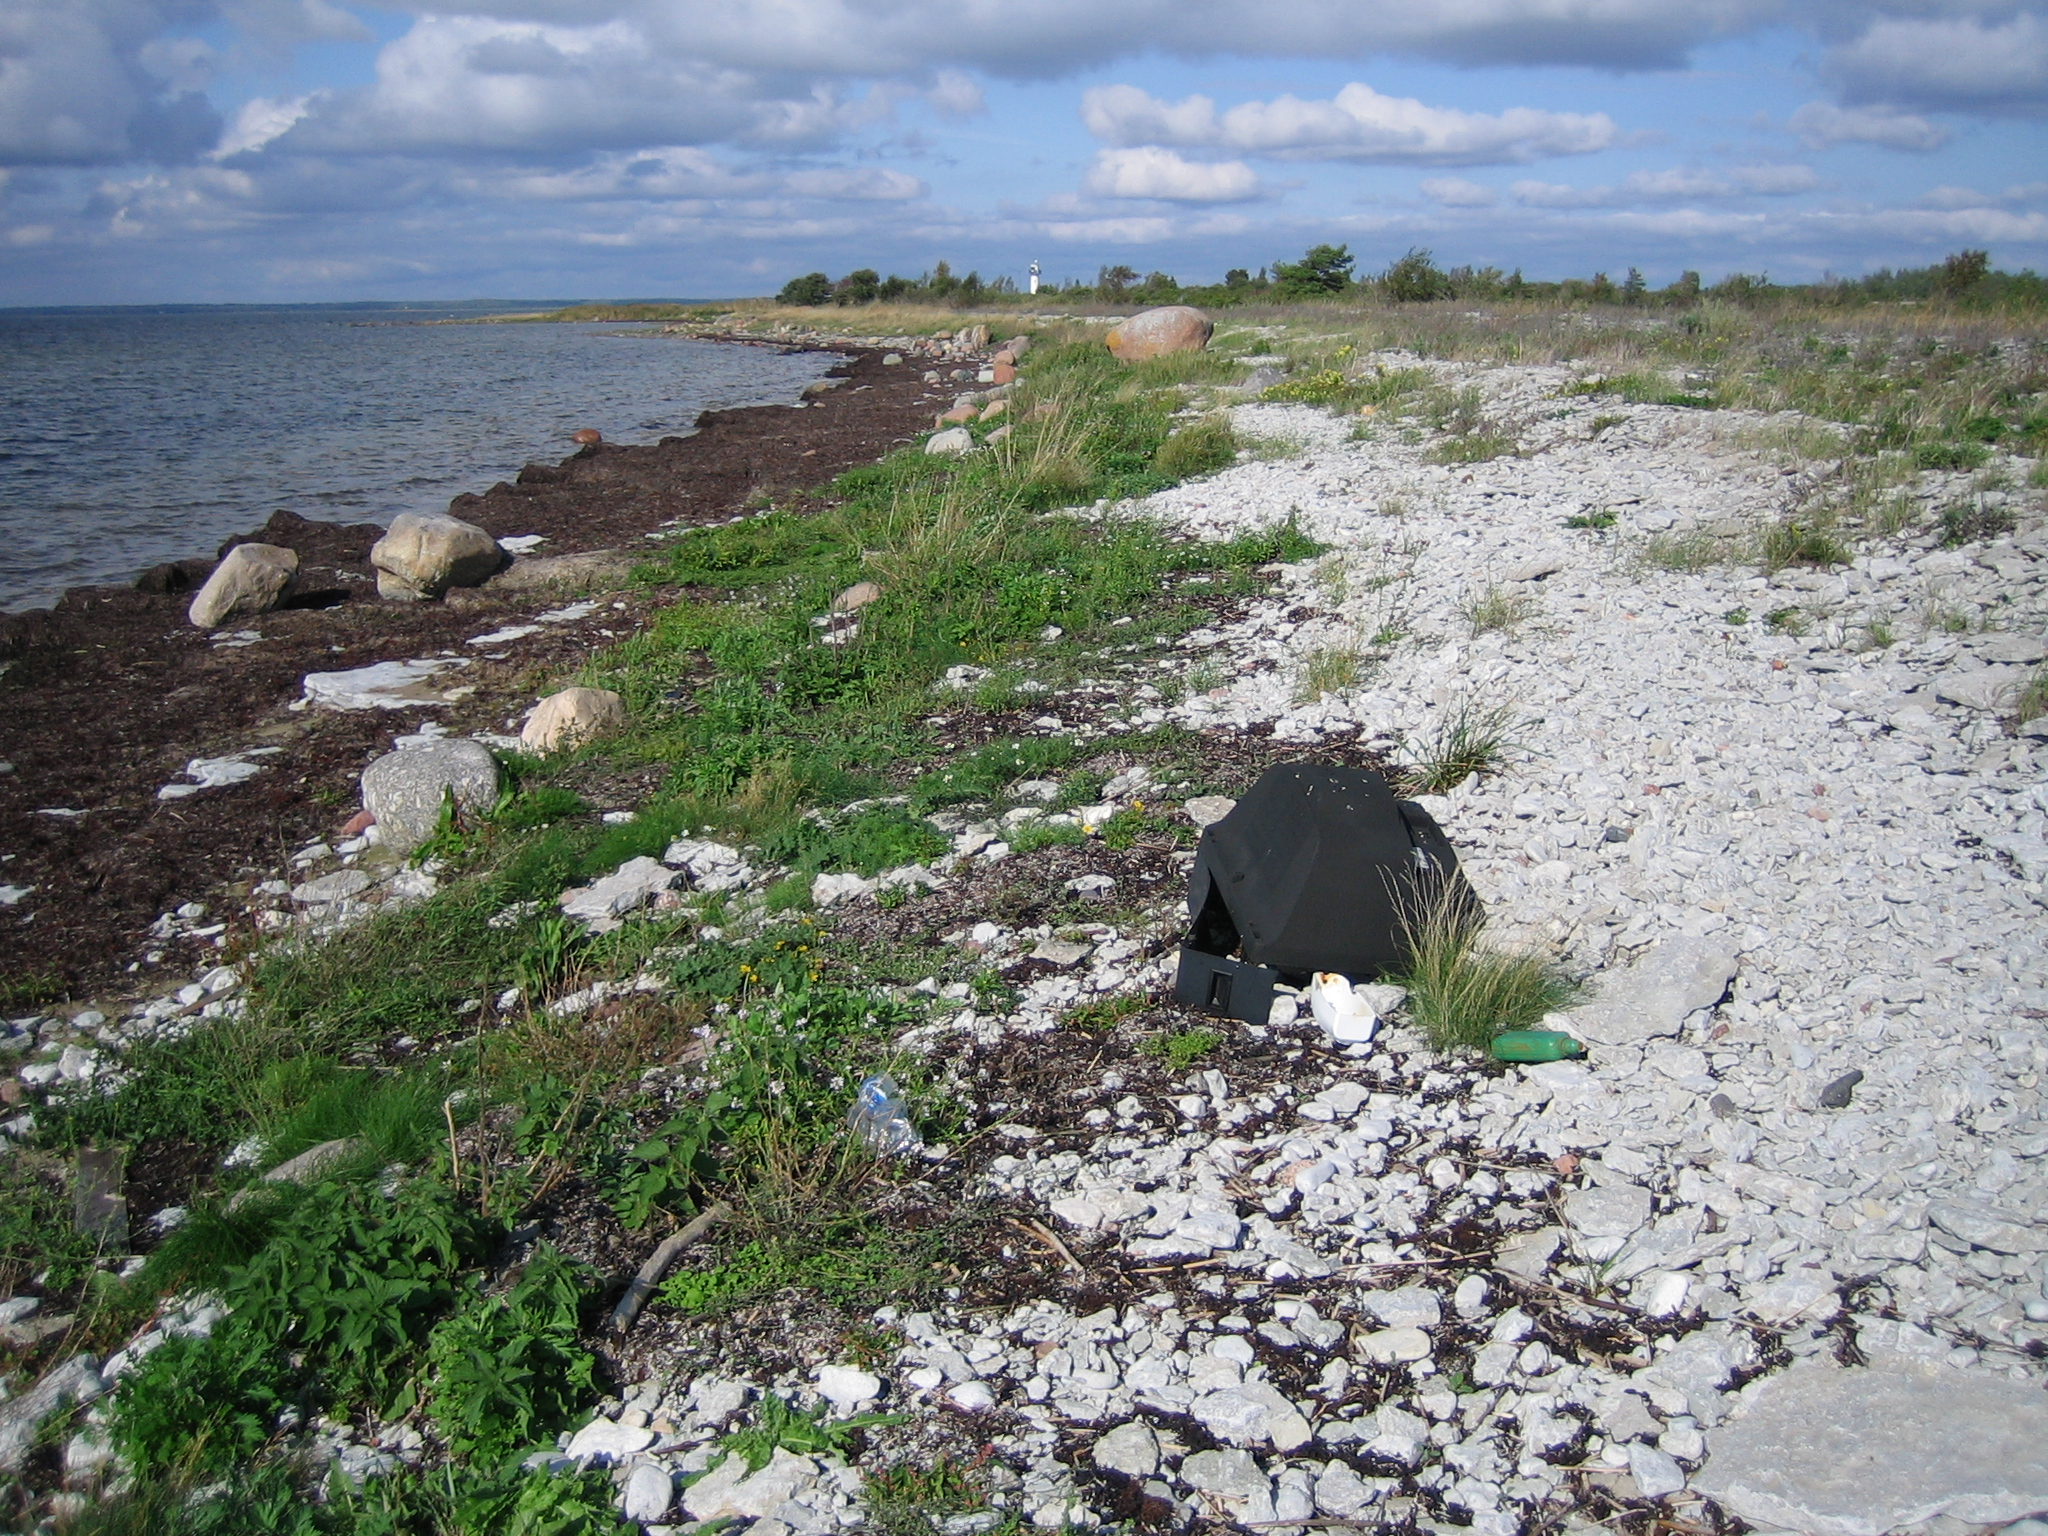trash: (1087, 750, 1638, 1110), (771, 1068, 971, 1199)
